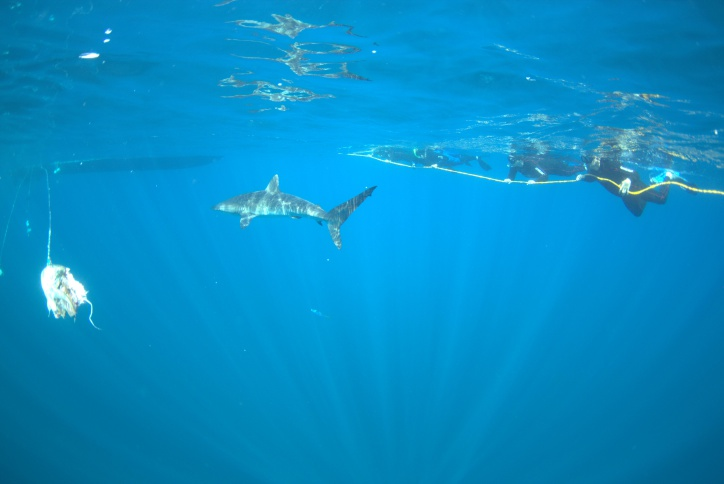Sedoso: (194, 169, 387, 255)
